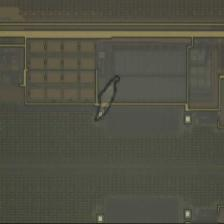PARTICLE: (92, 73, 124, 124)
